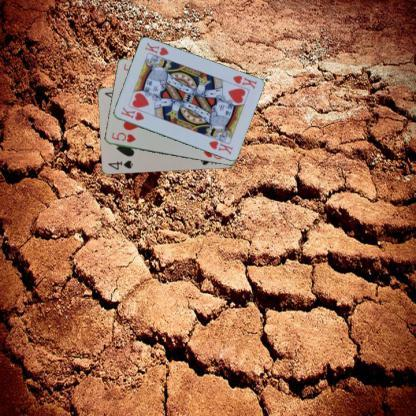4s: (105, 158, 134, 170)
5h: (108, 130, 138, 144)
Kh: (230, 73, 258, 91), (118, 104, 145, 122)
